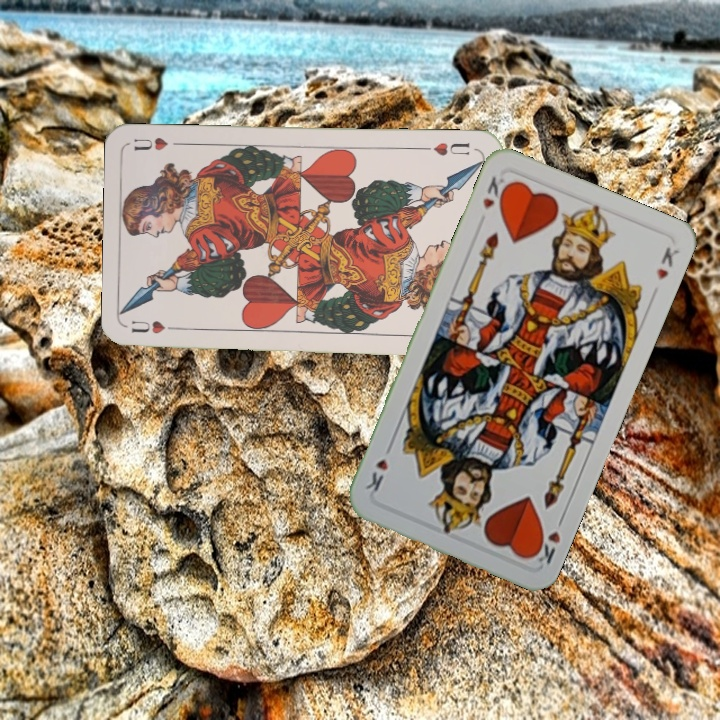HK: (528, 511, 567, 567), (478, 172, 512, 212)
HU: (128, 316, 185, 337), (419, 138, 472, 158)
